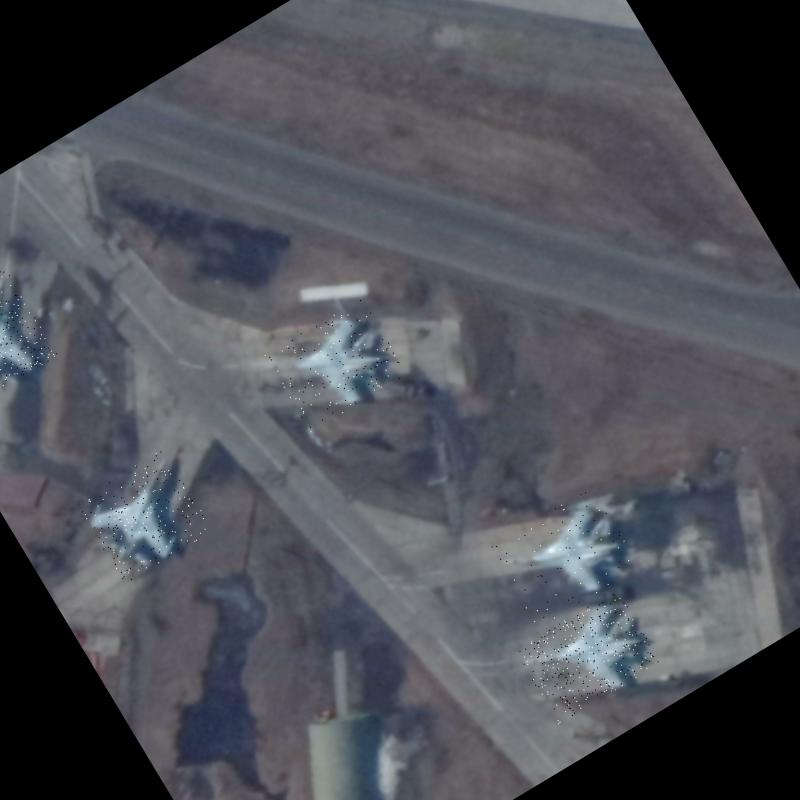A1: (490, 486, 640, 628), (514, 588, 661, 724), (264, 296, 408, 432), (74, 448, 213, 584), (0, 267, 57, 405)
